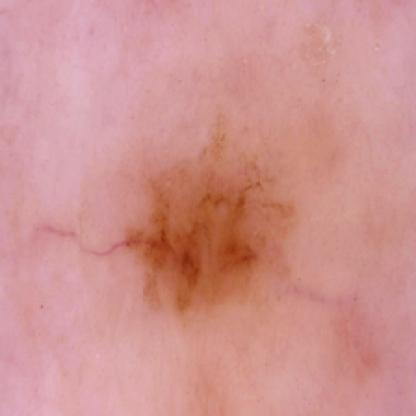Skin_Cancer-Malignant: (122, 142, 297, 320)
